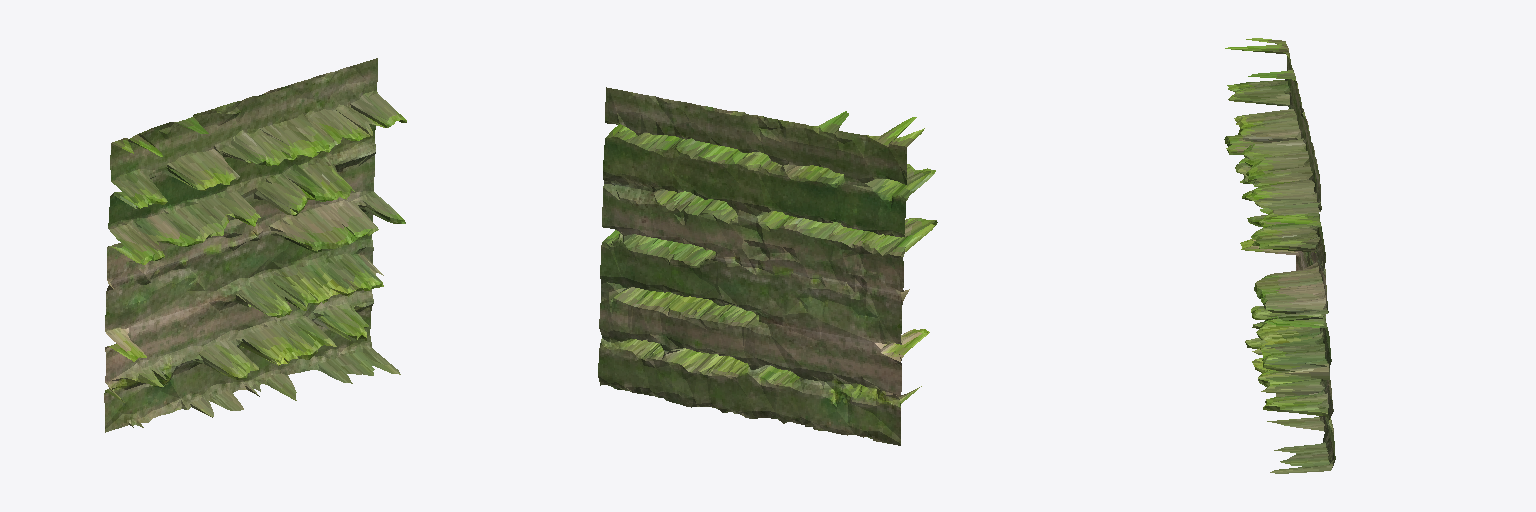
3 views of the same model, side by side, from view 1: azimuth 30°, elevation 25°; view 2: azimuth 150°, elevation 25°; view 3: azimuth 270°, elevation 25° (orthographic).
Visible parts, largest first — view 1: grp1; view 2: grp1; view 3: grp1.
Boxes of the visible parts, x1,y1,x2,y2 form: grp1: [104, 58, 406, 432]; grp1: [598, 87, 937, 445]; grp1: [1224, 38, 1335, 473].
Bounding box in the file's own units: 10 × 10 × 3.39.
Materials: 1 (1 with a texture image).